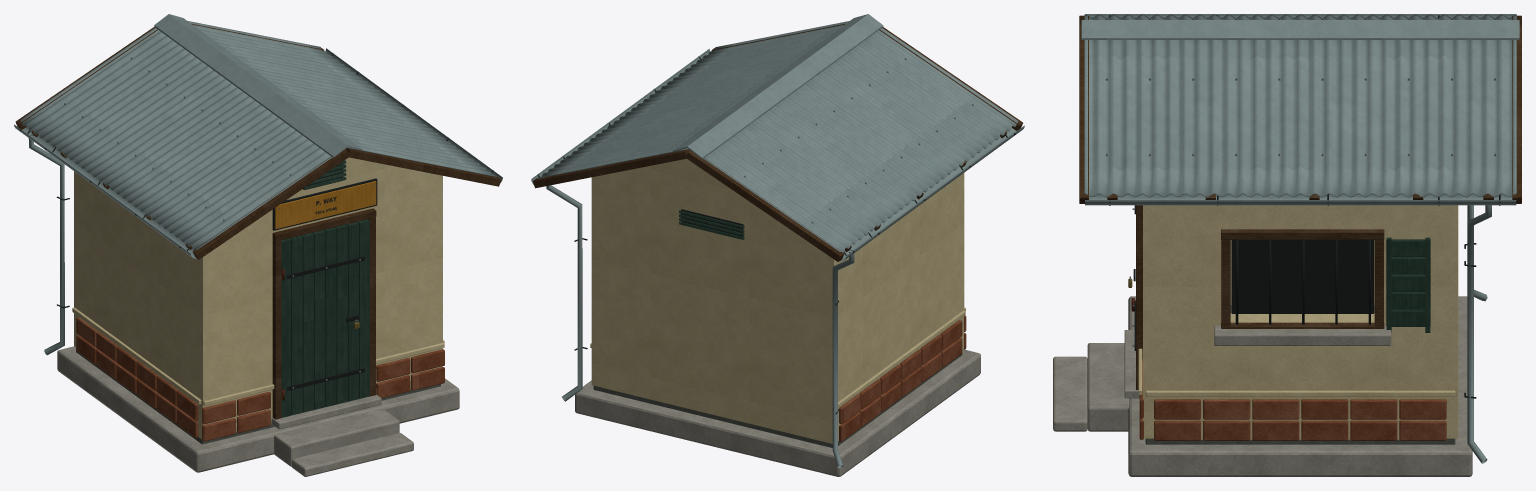
The picture shows the model from 3 angles, left to right: view 1: azimuth 30°, elevation 25°; view 2: azimuth 150°, elevation 25°; view 3: azimuth 270°, elevation 25°; orthographic projection. The views are drawn at different scales.
Visible parts, largest first — view 1: TF3_KR_R13; view 2: TF3_KR_R13; view 3: TF3_KR_R13.
Part boxes in pixels (x1,y1,x2,y2): TF3_KR_R13: (14,14,502,476); TF3_KR_R13: (531,14,1024,476); TF3_KR_R13: (1053,14,1521,476).
Size of the model in its own units: 3.21 by 3.03 by 3.39.
13 materials, 10 textured.
